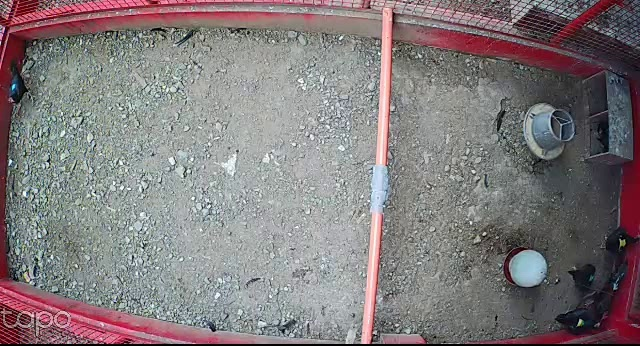Chicken: (558, 302, 610, 338), (599, 226, 640, 258), (569, 262, 598, 293)
Drinker: (501, 246, 549, 290)
Feeder: (524, 103, 575, 160)
Rooster: (581, 264, 627, 325)
Saddle_Color_Yellow: (618, 238, 627, 247)
Saddle_Color_YellowGreen: (578, 319, 584, 325)
